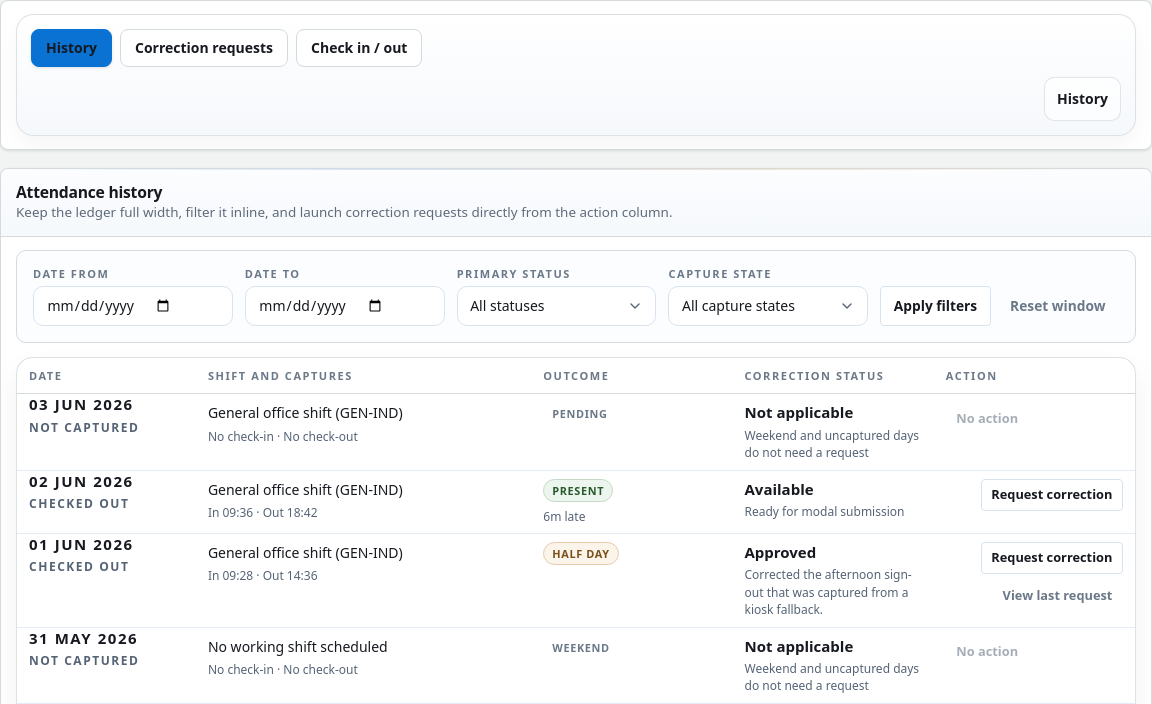
it: AttendanceEmployeeWorkspace › shows an empty history state when the selected filter window has no records
Type "2027-01-01" into the date field labelled "Date from".
click(133, 306); type("2027-01-01")  # box x1=33 y1=286 x2=233 y2=326
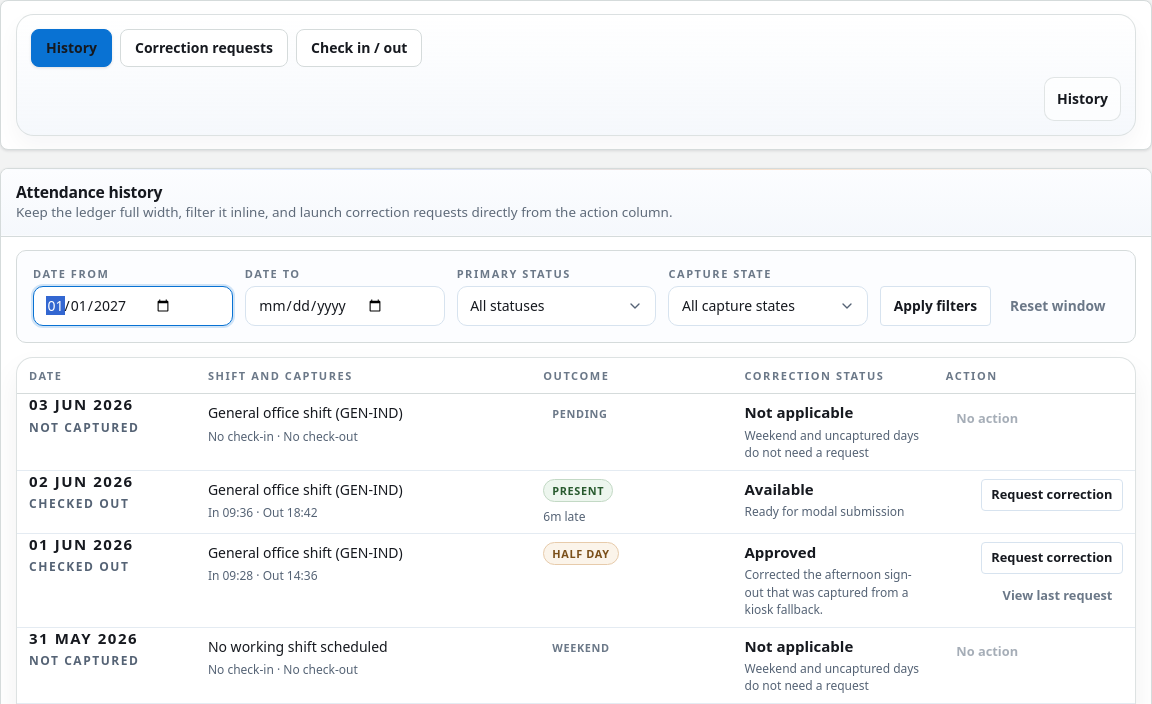
Type "2027-01-31" into the date field labelled "Date to".
click(345, 306); type("2027-01-31")  # box x1=245 y1=286 x2=445 y2=326
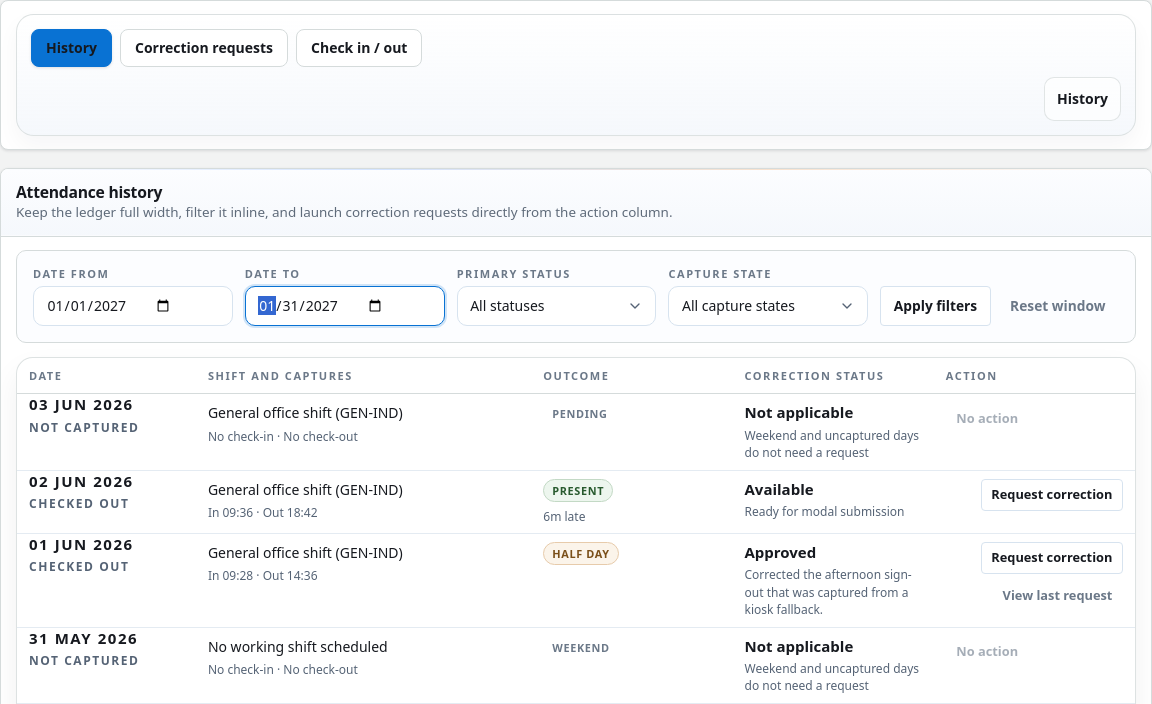
Click the button "Apply filters".
click(935, 306)  # box x1=880 y1=286 x2=991 y2=326
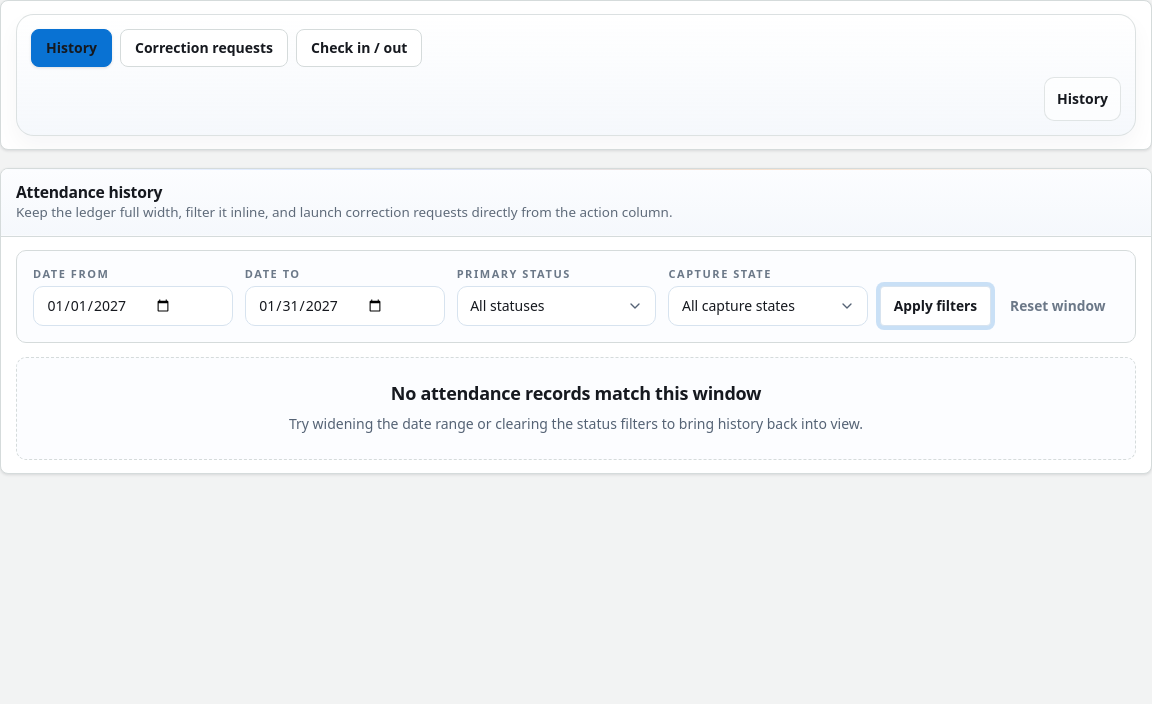
Check: the heading "No attendance records match this window" is shown, box x1=391 y1=381 x2=761 y2=405
